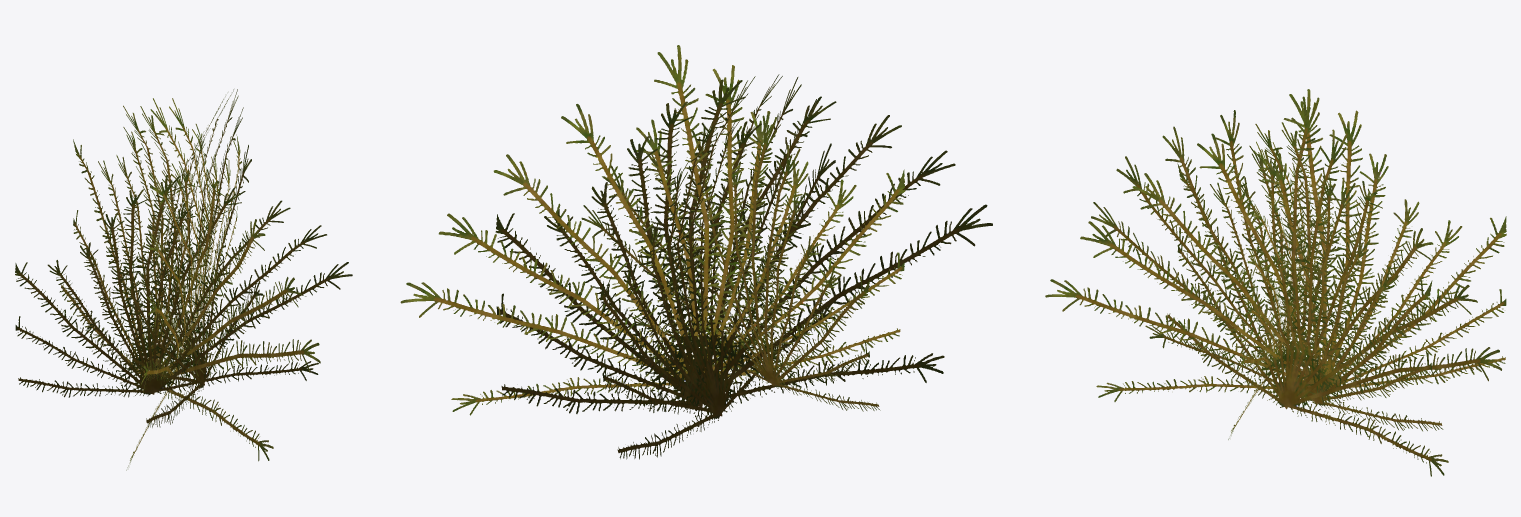
Rendered from SM_bush_05.glb.
The picture shows the model from 3 angles, left to right: view 1: azimuth 30°, elevation 25°; view 2: azimuth 150°, elevation 25°; view 3: azimuth 270°, elevation 25°; orthographic projection. The views are drawn at different scales.
Parts seen in each view (by area): view 1: SM_bush_05; view 2: SM_bush_05; view 3: SM_bush_05.
Boxes of the visible parts, x1,y1,x2,y2 form: SM_bush_05: (15, 89, 352, 470); SM_bush_05: (400, 45, 992, 459); SM_bush_05: (1045, 89, 1506, 476).
Size of the model in its own units: 1.2 by 0.962 by 1.29.
Materials: 1 (1 with a texture image).
